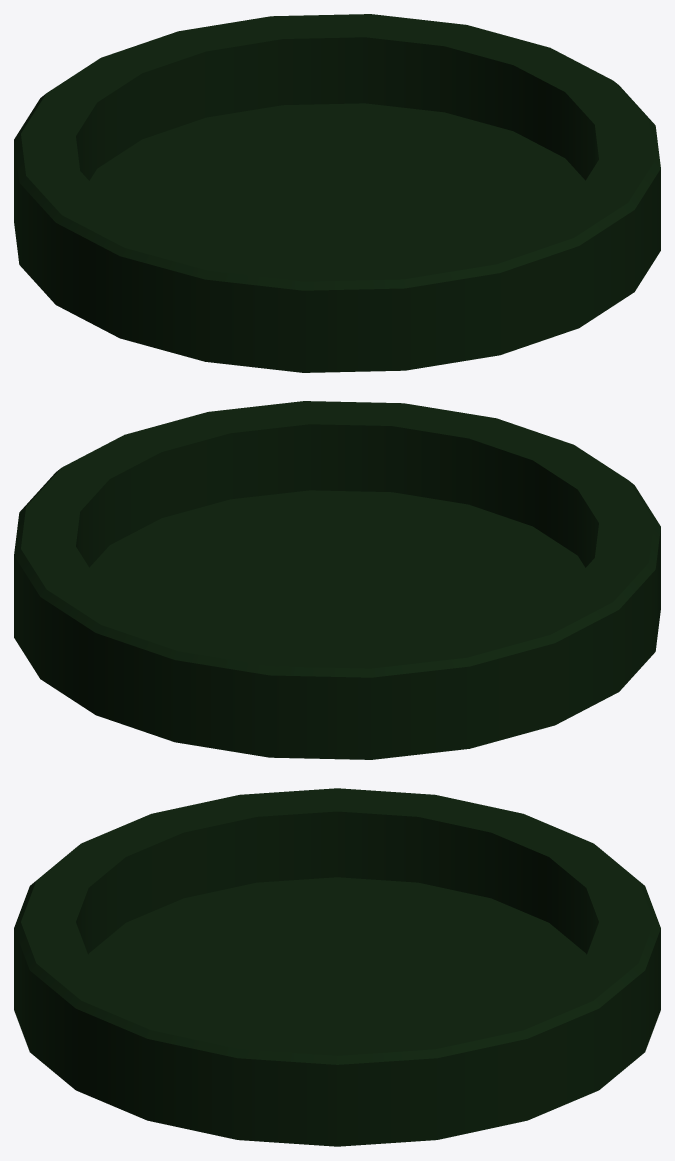
The model's file is Platform_ButtonBase_Medium.fbx.
The picture shows the model from 3 angles, top to bottom: view 1: azimuth 30°, elevation 25°; view 2: azimuth 150°, elevation 25°; view 3: azimuth 270°, elevation 25°; orthographic projection.
Parts seen in each view (by area): view 1: Platform_ButtonBase_Medium; view 2: Platform_ButtonBase_Medium; view 3: Platform_ButtonBase_Medium.
Part boxes in pixels (bbox=[...]): Platform_ButtonBase_Medium: bbox=[14, 14, 660, 372]; Platform_ButtonBase_Medium: bbox=[14, 401, 660, 759]; Platform_ButtonBase_Medium: bbox=[14, 788, 660, 1146].
Bounding box in the file's own units: 200 × 30 × 200.
